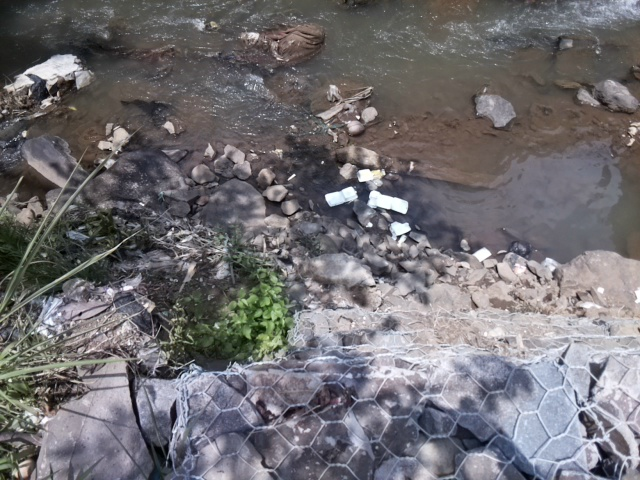Sampah_Plastik: (13, 50, 80, 97), (508, 238, 533, 257)
Sampah_Styrofoam: (368, 189, 410, 213), (322, 187, 362, 206), (390, 221, 414, 237), (472, 247, 491, 263), (356, 166, 374, 182)
